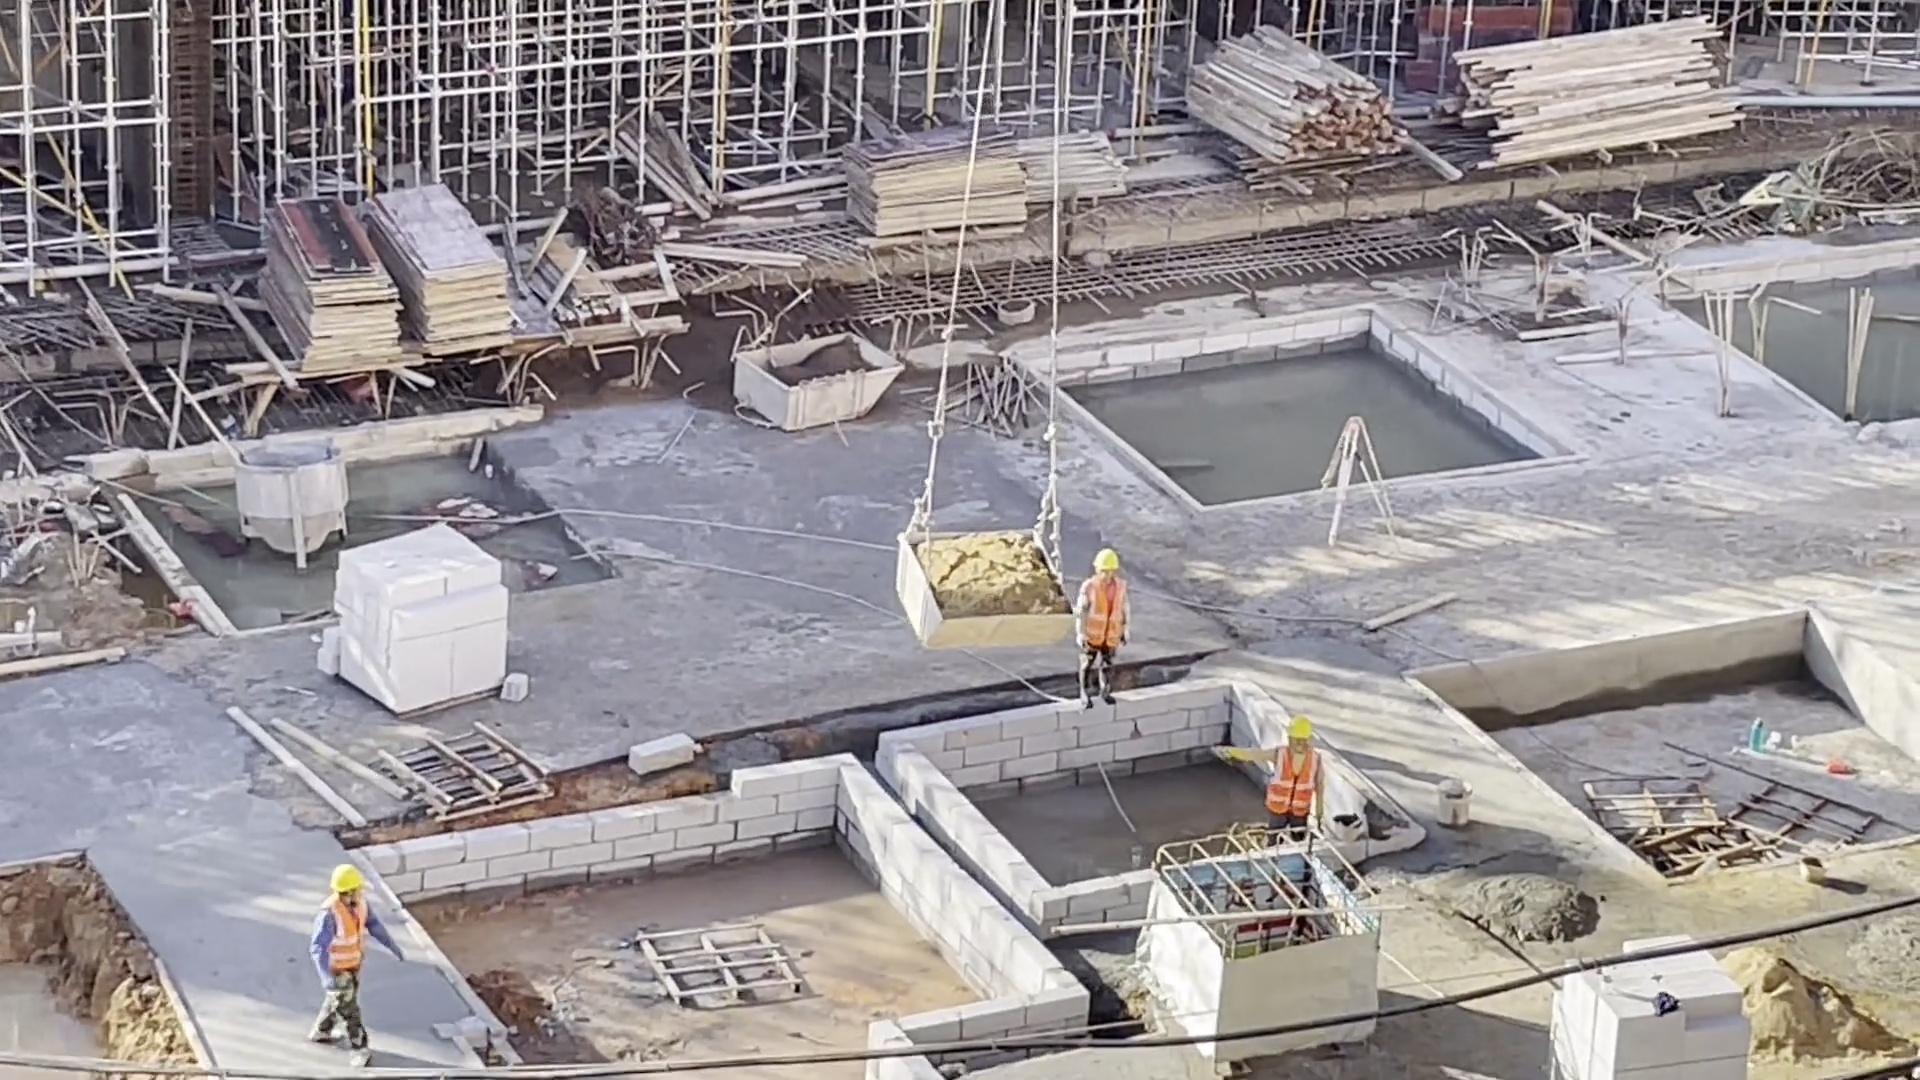board: (252, 195, 412, 379), (364, 176, 518, 364), (836, 119, 1037, 246)
brick: (312, 513, 521, 719)
helmet: (331, 862, 364, 894), (1281, 714, 1313, 741), (1089, 548, 1122, 575)
hopper: (893, 526, 1070, 649), (721, 327, 914, 439), (230, 435, 348, 576)
person: (306, 859, 412, 1074), (1206, 710, 1327, 840), (1074, 544, 1134, 708)
vest: (1267, 744, 1320, 819), (320, 897, 370, 971), (1083, 577, 1126, 649)
wood: (1447, 15, 1754, 167), (1177, 23, 1408, 168)
